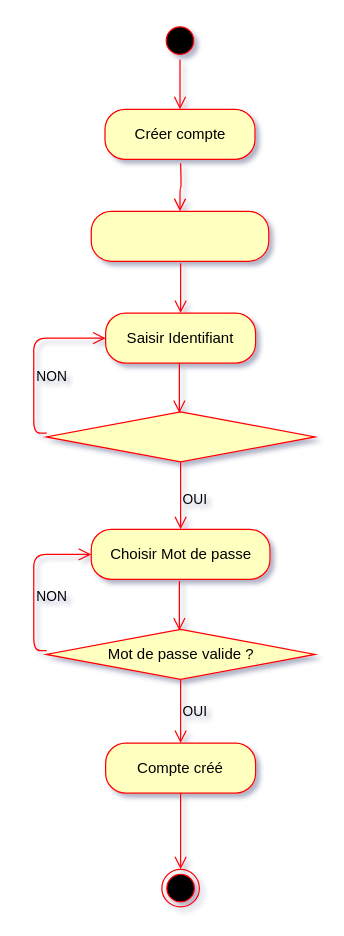
Some shapes in this 344 by 936 pixel diagram are drawn without their labels. The shapes that lost their labels are listed below. From the top down, each one's box as (x1, y1, x2, y2) in pixels, then its label:
(90, 210, 269, 261): Saisir informations personnelles
(45, 411, 315, 462): Identifiant valide ?
